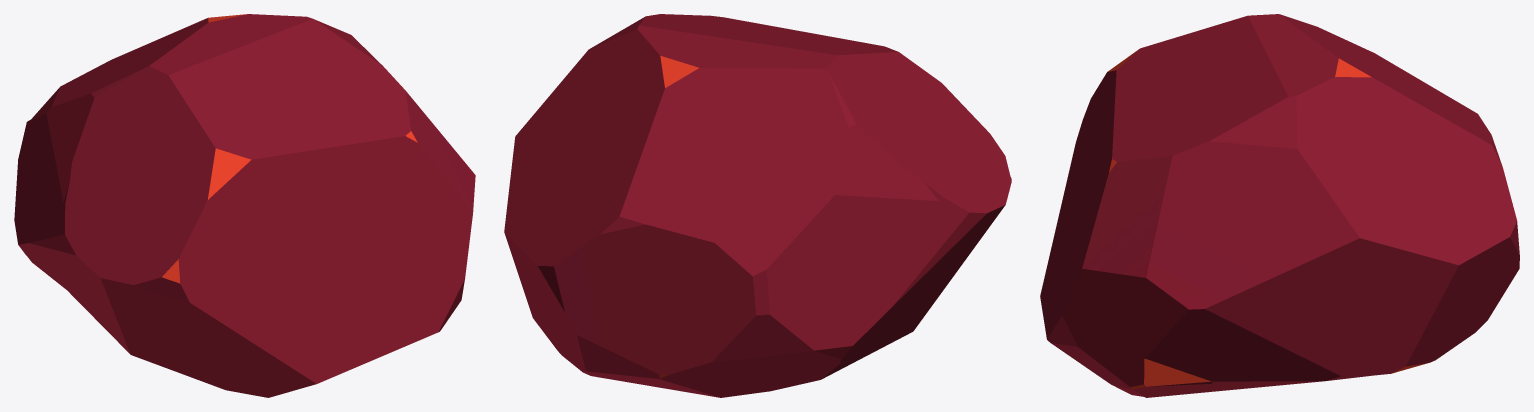
File: RockA.fbx
3 renders of one model, left to right at view 1: azimuth 30°, elevation 25°; view 2: azimuth 150°, elevation 25°; view 3: azimuth 270°, elevation 25°, orthographic. The views are drawn at different scales.
Parts seen in each view (by area): view 1: RockA; view 2: RockA; view 3: RockA.
Boxes of the visible parts, box(x1,y1,x2,y2) form: RockA: box(14, 14, 475, 397); RockA: box(504, 14, 1011, 397); RockA: box(1040, 14, 1519, 397).
Size of the model in its own units: 93.96 by 65.4 by 95.85.
